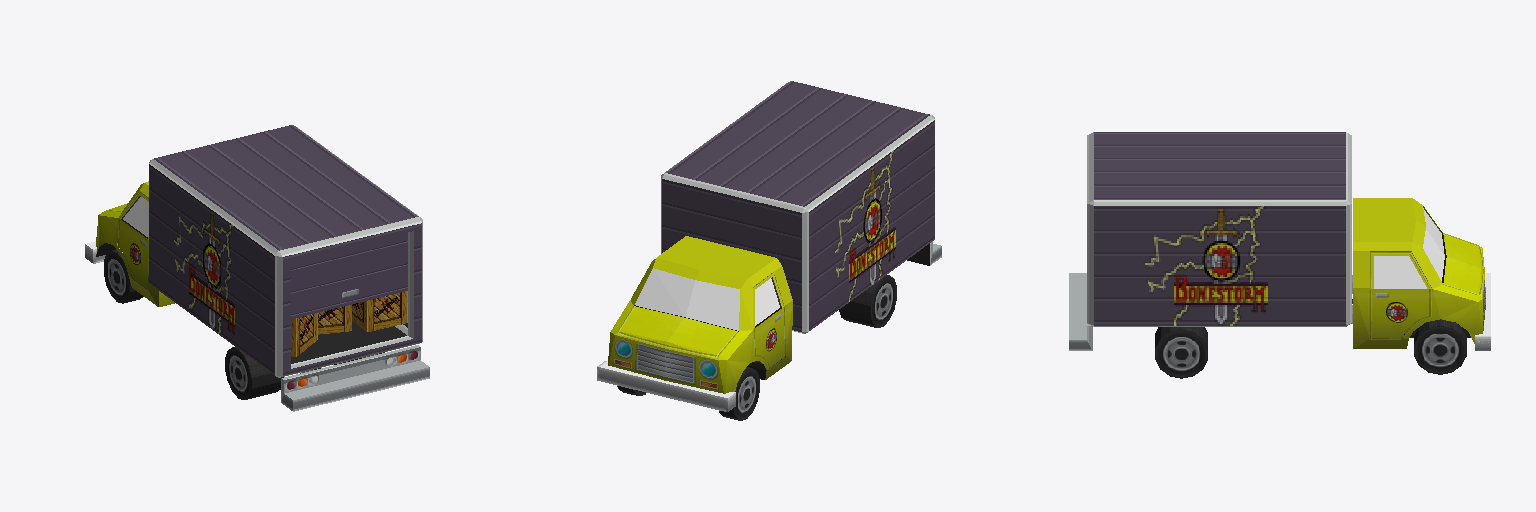
The picture shows the model from 3 angles: view 1: azimuth 30°, elevation 25°; view 2: azimuth 150°, elevation 25°; view 3: azimuth 270°, elevation 25°; orthographic projection.
Visible parts, largest first — view 1: cBoneShape, DoorDRotShape, wShape1.001, wShape2.001; view 2: cBoneShape, DoorDRotShape, wShape1.001, wShape2.001; view 3: cBoneShape, DoorPRotShape, wShape1, wShape2.
Part boxes in pixels (left/top/right/bottom): cBoneShape: left=85, top=125, right=429, bottom=411; DoorDRotShape: left=118, top=191, right=148, bottom=289; wShape1.001: left=225, top=347, right=283, bottom=399; wShape2.001: left=104, top=250, right=143, bottom=303; cBoneShape: left=597, top=81, right=941, bottom=411; DoorDRotShape: left=753, top=272, right=785, bottom=367; wShape1.001: left=839, top=275, right=896, bottom=327; wShape2.001: left=719, top=367, right=759, bottom=420; cBoneShape: left=1069, top=132, right=1490, bottom=350; DoorPRotShape: left=1369, top=251, right=1431, bottom=339; wShape1: left=1155, top=327, right=1207, bottom=378; wShape2: left=1414, top=319, right=1466, bottom=374.
Bounding box in the file's own units: 2.85 × 3.3 × 7.
Materials: 13 (5 with a texture image).